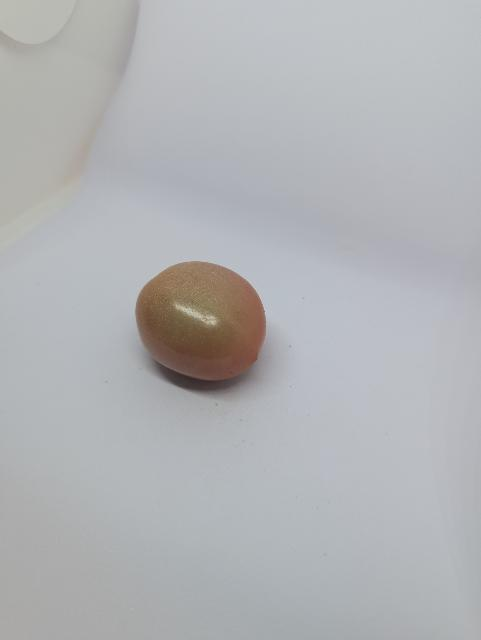turning: (132, 250, 273, 388)
